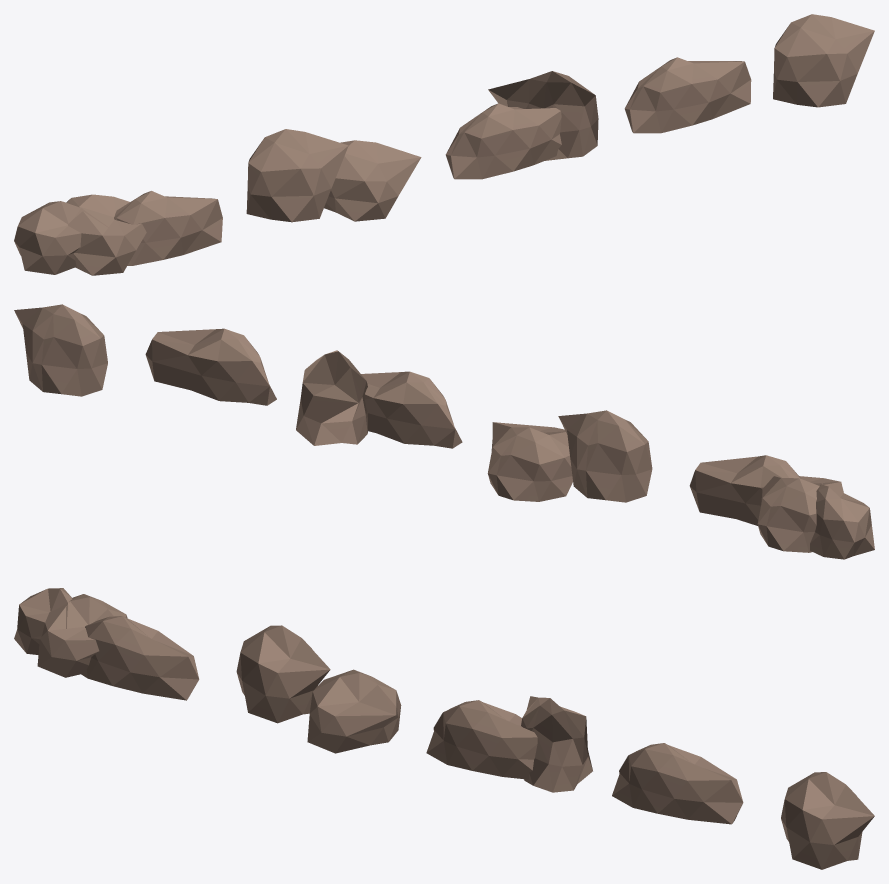
File: shitou02.fbx
The picture shows the model from 3 angles, top to bottom: view 1: azimuth 30°, elevation 25°; view 2: azimuth 150°, elevation 25°; view 3: azimuth 330°, elevation 25°; orthographic projection.
Parts seen in each view (by area): view 1: shitou02; view 2: shitou02; view 3: shitou02.
Boxes of the visible parts, left/top/right/bottom form: shitou02: left=14, top=14, right=874, bottom=275; shitou02: left=14, top=304, right=874, bottom=559; shitou02: left=14, top=588, right=874, bottom=869.
Bounding box in the file's own units: 68.84 × 7.68 × 7.51.
